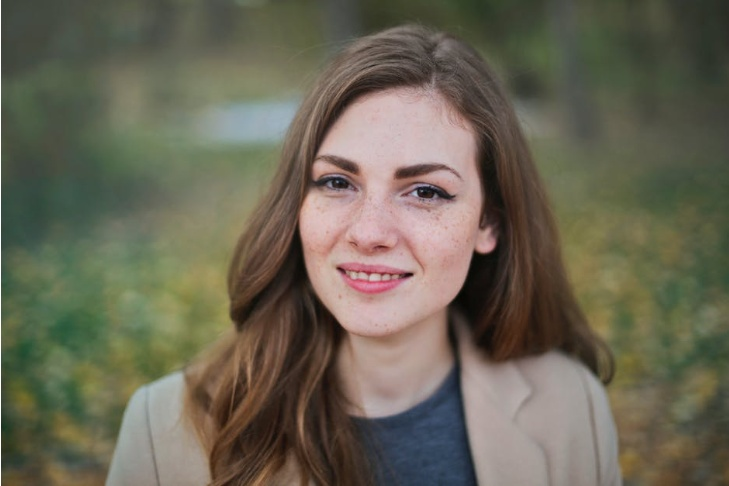face: (296, 89, 478, 337)
